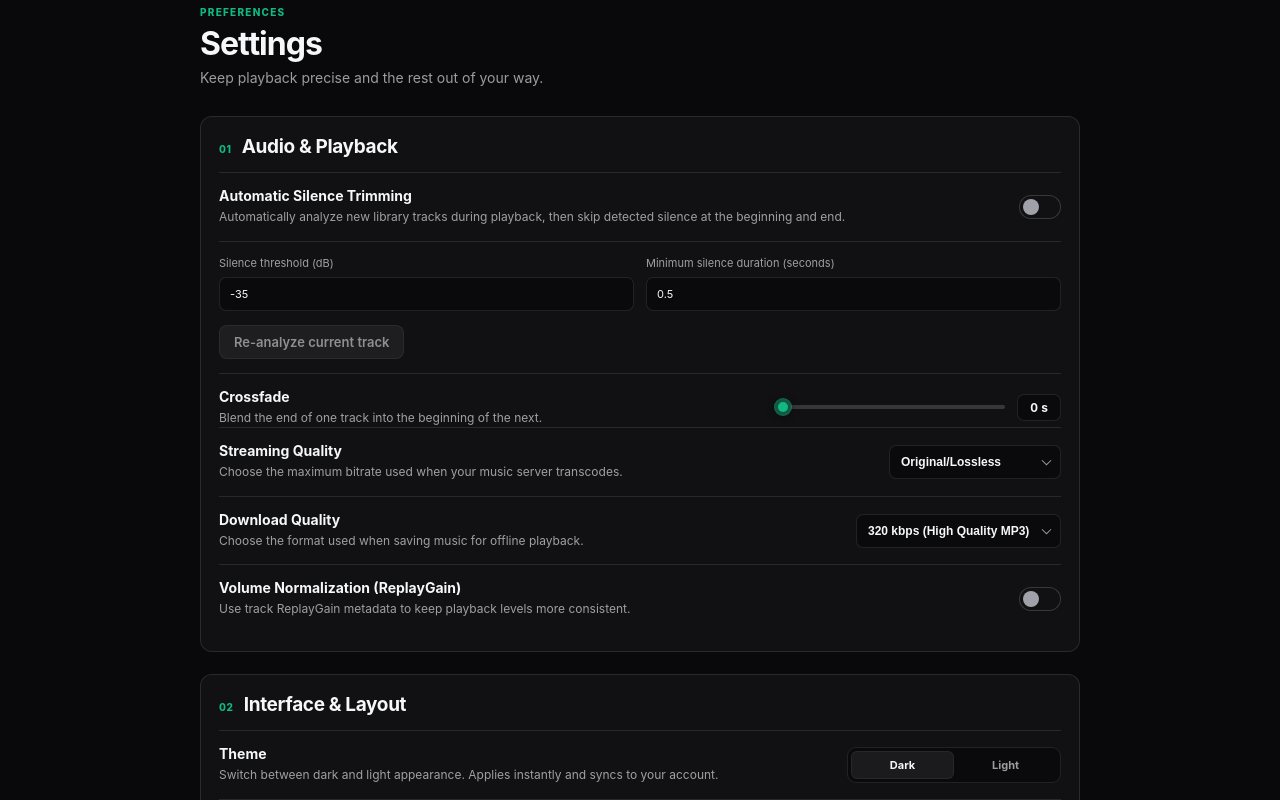
theme selector restores the previous theme when saving fails
Click the radio button labelled "Light" at (1006, 765), box x1=954 y1=751 x2=1057 y2=779
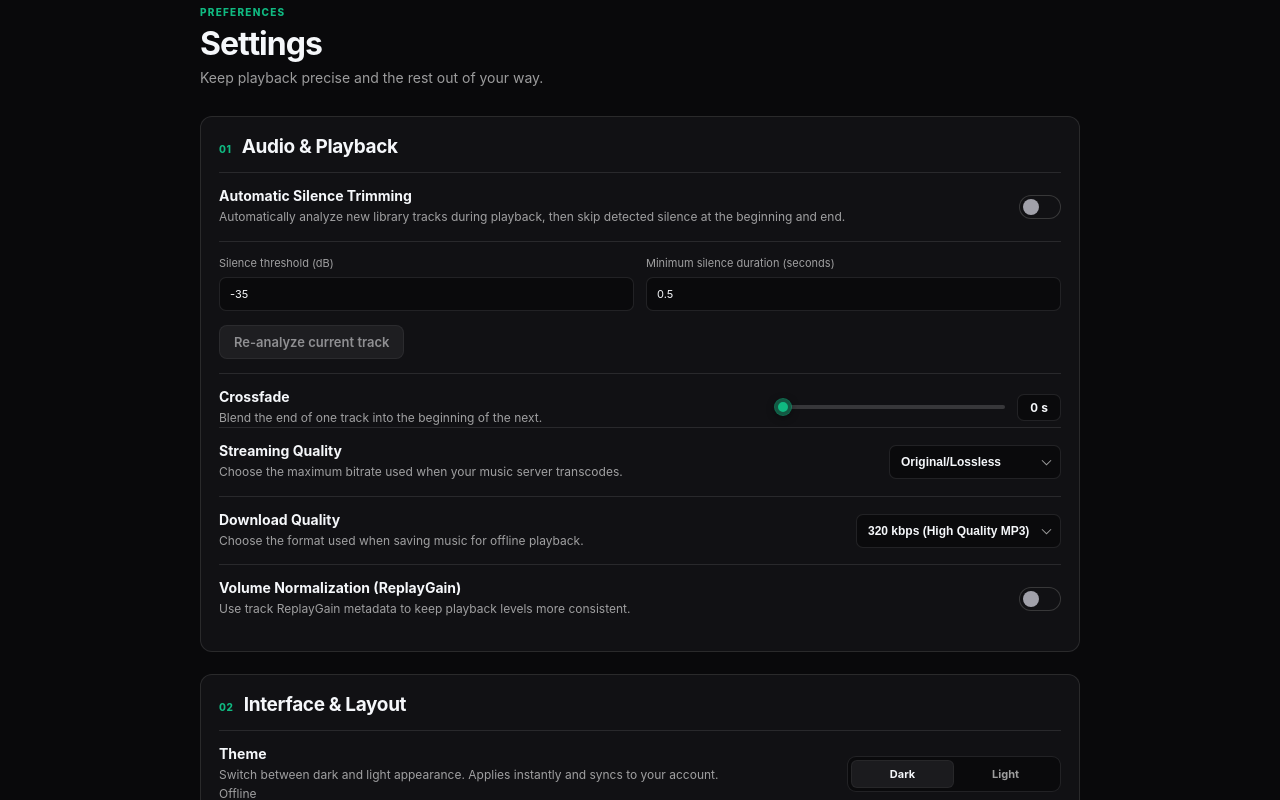
Expected: the message reads "Offline", x1=219 y1=786 x2=256 y2=799
